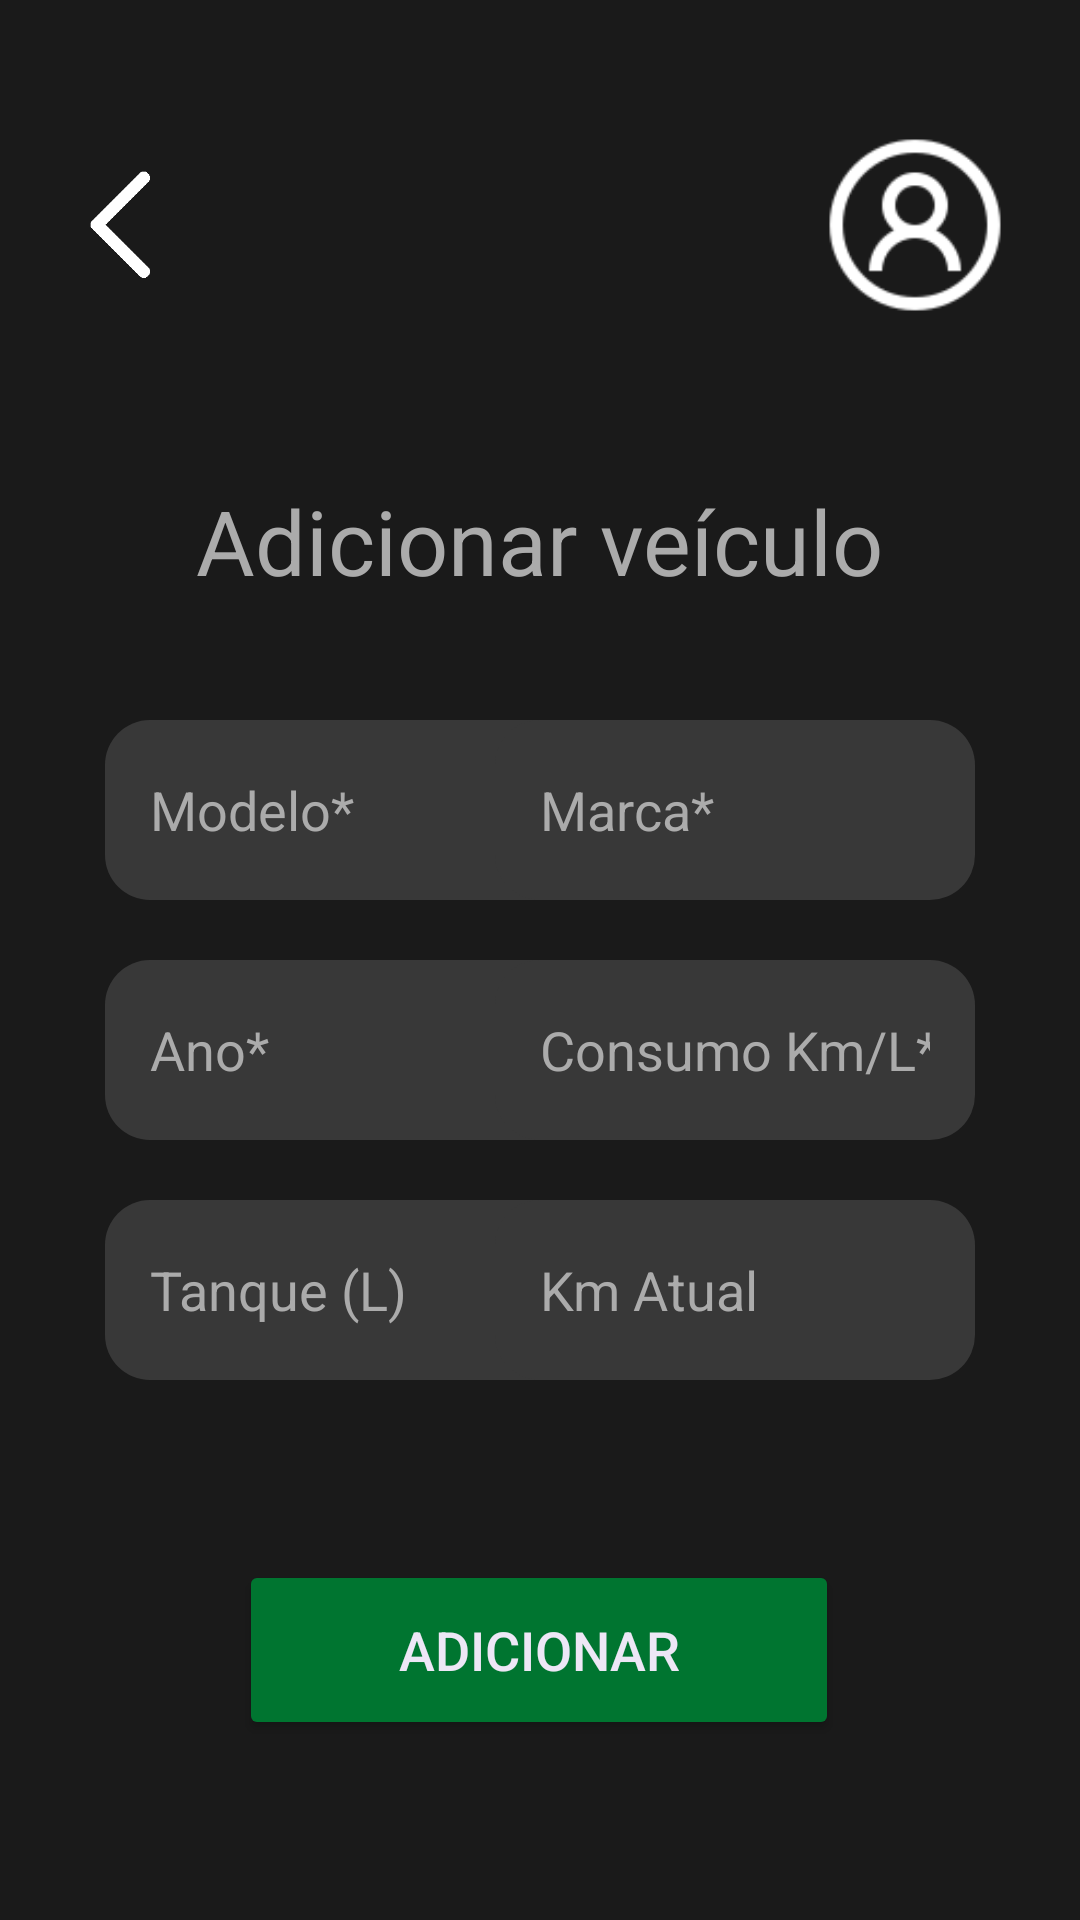

Icons on this 1080x1920 Android screen, each with its box as (x1, y1, x2, y2):
Perfil: (829, 139, 1001, 311)
Voltar: (90, 171, 150, 278)
